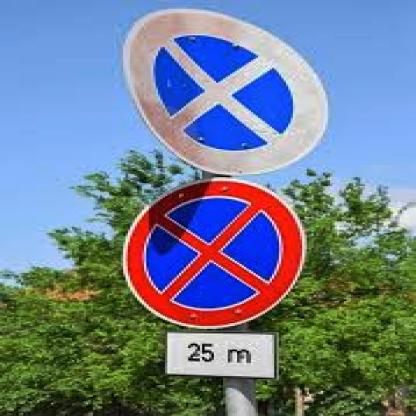No stopping: (107, 0, 349, 183), (107, 169, 312, 330)
